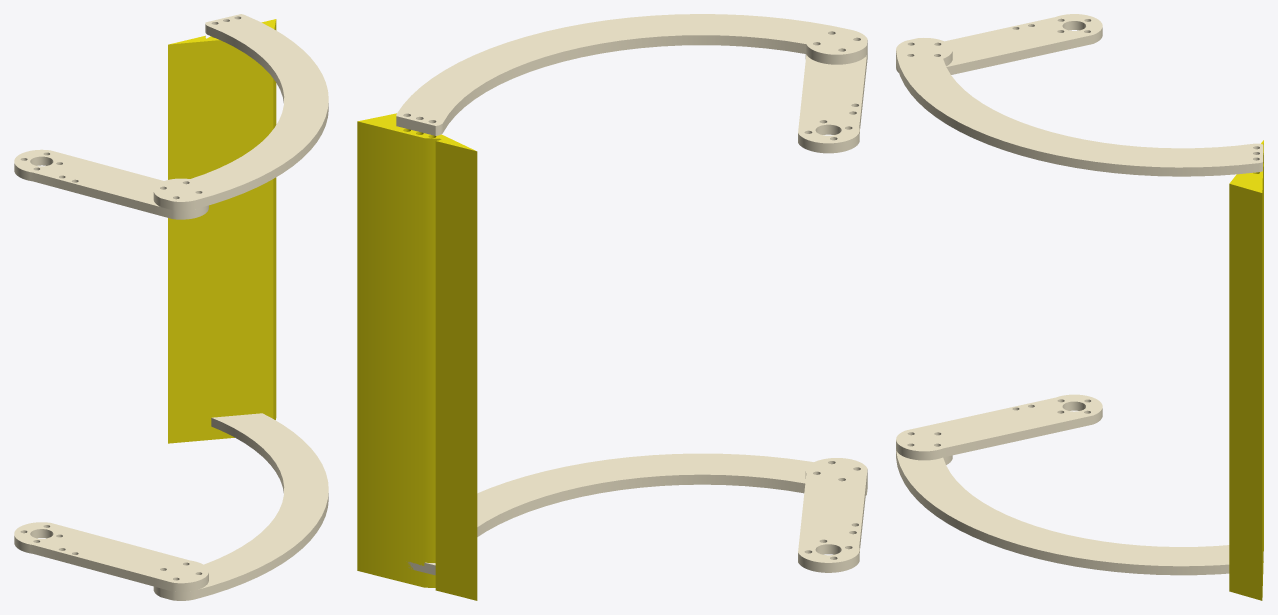
The picture shows the model from 3 angles, left to right: view 1: azimuth 30°, elevation 25°; view 2: azimuth 150°, elevation 25°; view 3: azimuth 270°, elevation 25°; orthographic projection. The views are drawn at different scales.
Parts seen in each view (by area): view 1: model_3.glb; view 2: model_3.glb; view 3: model_3.glb.
Boxes of the visible parts, x1,y1,x2,y2 form: model_3.glb: (14, 14, 328, 600); model_3.glb: (357, 14, 867, 600); model_3.glb: (896, 14, 1263, 600).
Size of the model in its own units: 0.2481 by 0.279 by 0.2208.
